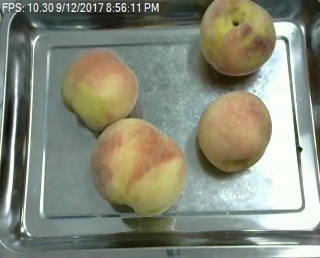Peach: (91, 115, 186, 216), (62, 47, 139, 130), (197, 89, 272, 170), (198, 0, 276, 77)
